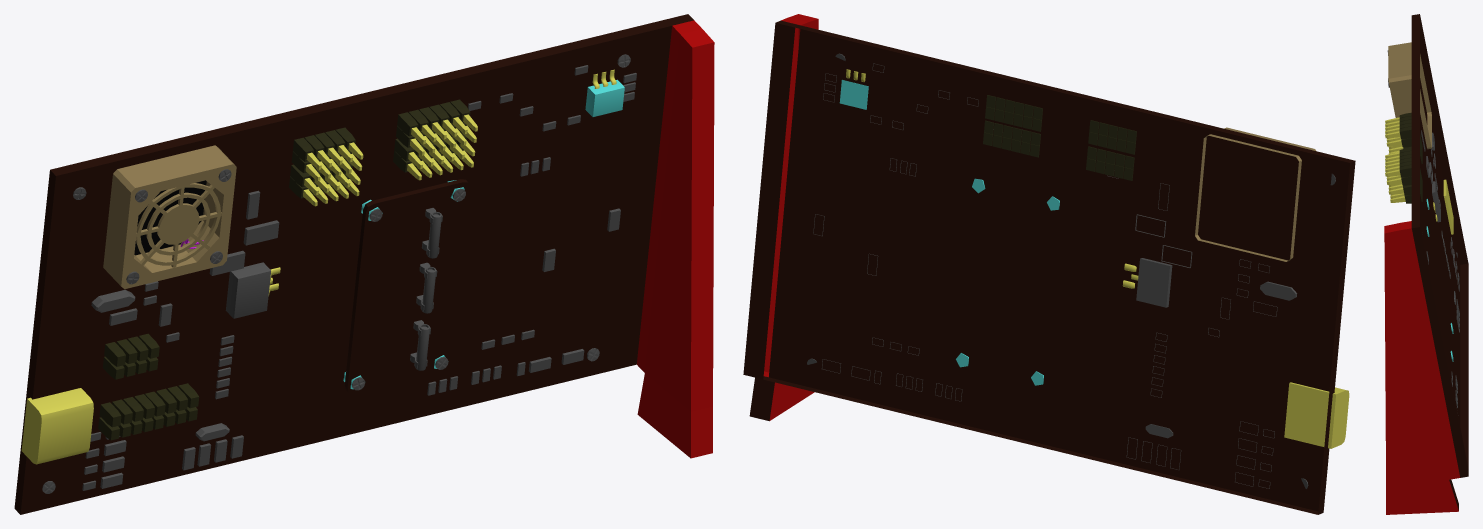
Rendered from SM_RightPlate.fbx.
3 views of the same model, side by side, from view 1: azimuth 30°, elevation 25°; view 2: azimuth 150°, elevation 25°; view 3: azimuth 270°, elevation 25° (orthographic). The views are drawn at different scales.
Parts seen in each view (by area): view 1: Plane018; view 2: Plane018; view 3: Plane018.
Boxes of the visible parts, x1,y1,x2,y2 form: Plane018: [14, 14, 714, 514]; Plane018: [743, 14, 1355, 514]; Plane018: [1384, 14, 1468, 514].
Size of the model in its own units: 4.25 by 2.66 by 0.7053.
